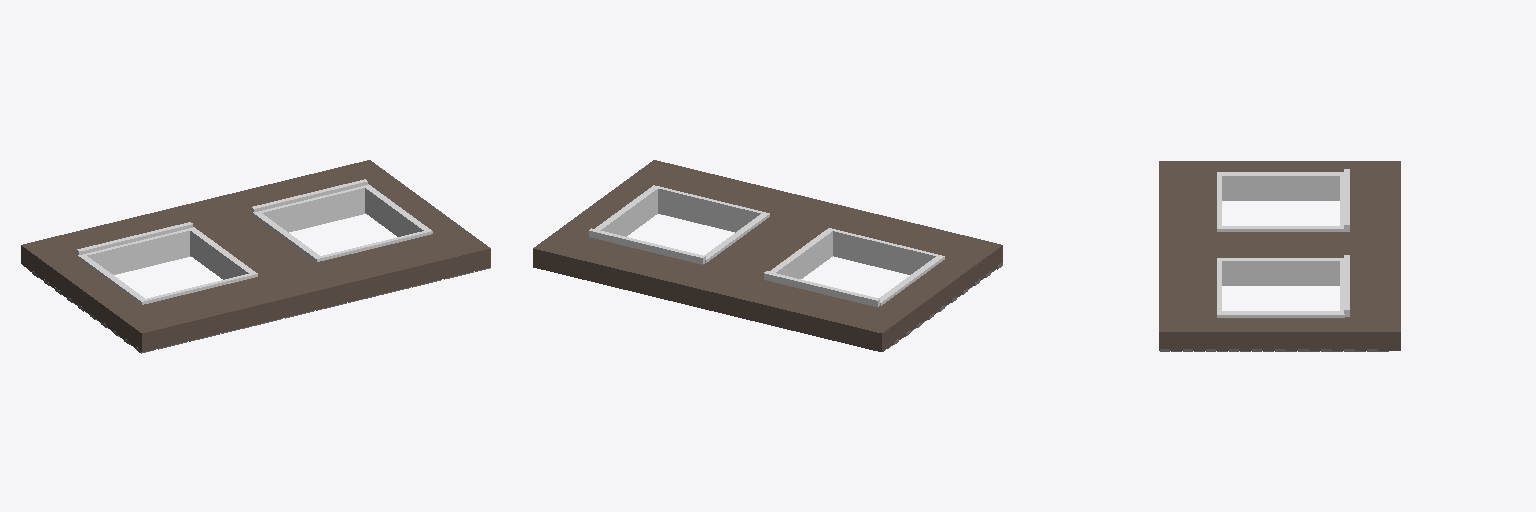
3 views of the same model, side by side, from view 1: azimuth 30°, elevation 25°; view 2: azimuth 150°, elevation 25°; view 3: azimuth 270°, elevation 25° (orthographic).
Visible parts, largest first — view 1: VisualWall_Cube.038, VisualWindowsillLeft.001_Cube.040, VisualWindowsillLeft_Cube.039; view 2: VisualWall_Cube.038, VisualWindowsillLeft.001_Cube.040, VisualWindowsillLeft_Cube.039; view 3: VisualWall_Cube.038, VisualWindowsillLeft.001_Cube.040, VisualWindowsillLeft_Cube.039.
Boxes of the visible parts, <box> form: VisualWall_Cube.038: <box>21,160,490,353</box>; VisualWindowsillLeft.001_Cube.040: <box>76,222,257,304</box>; VisualWindowsillLeft_Cube.039: <box>251,179,432,261</box>; VisualWall_Cube.038: <box>533,160,1002,351</box>; VisualWindowsillLeft.001_Cube.040: <box>764,228,944,307</box>; VisualWindowsillLeft_Cube.039: <box>589,185,769,264</box>; VisualWall_Cube.038: <box>1159,161,1400,351</box>; VisualWindowsillLeft.001_Cube.040: <box>1217,169,1349,231</box>; VisualWindowsillLeft_Cube.039: <box>1217,255,1349,317</box>.
Size of the model in its own units: 5 by 0.4367 by 3.
Materials: 3 (1 with a texture image).